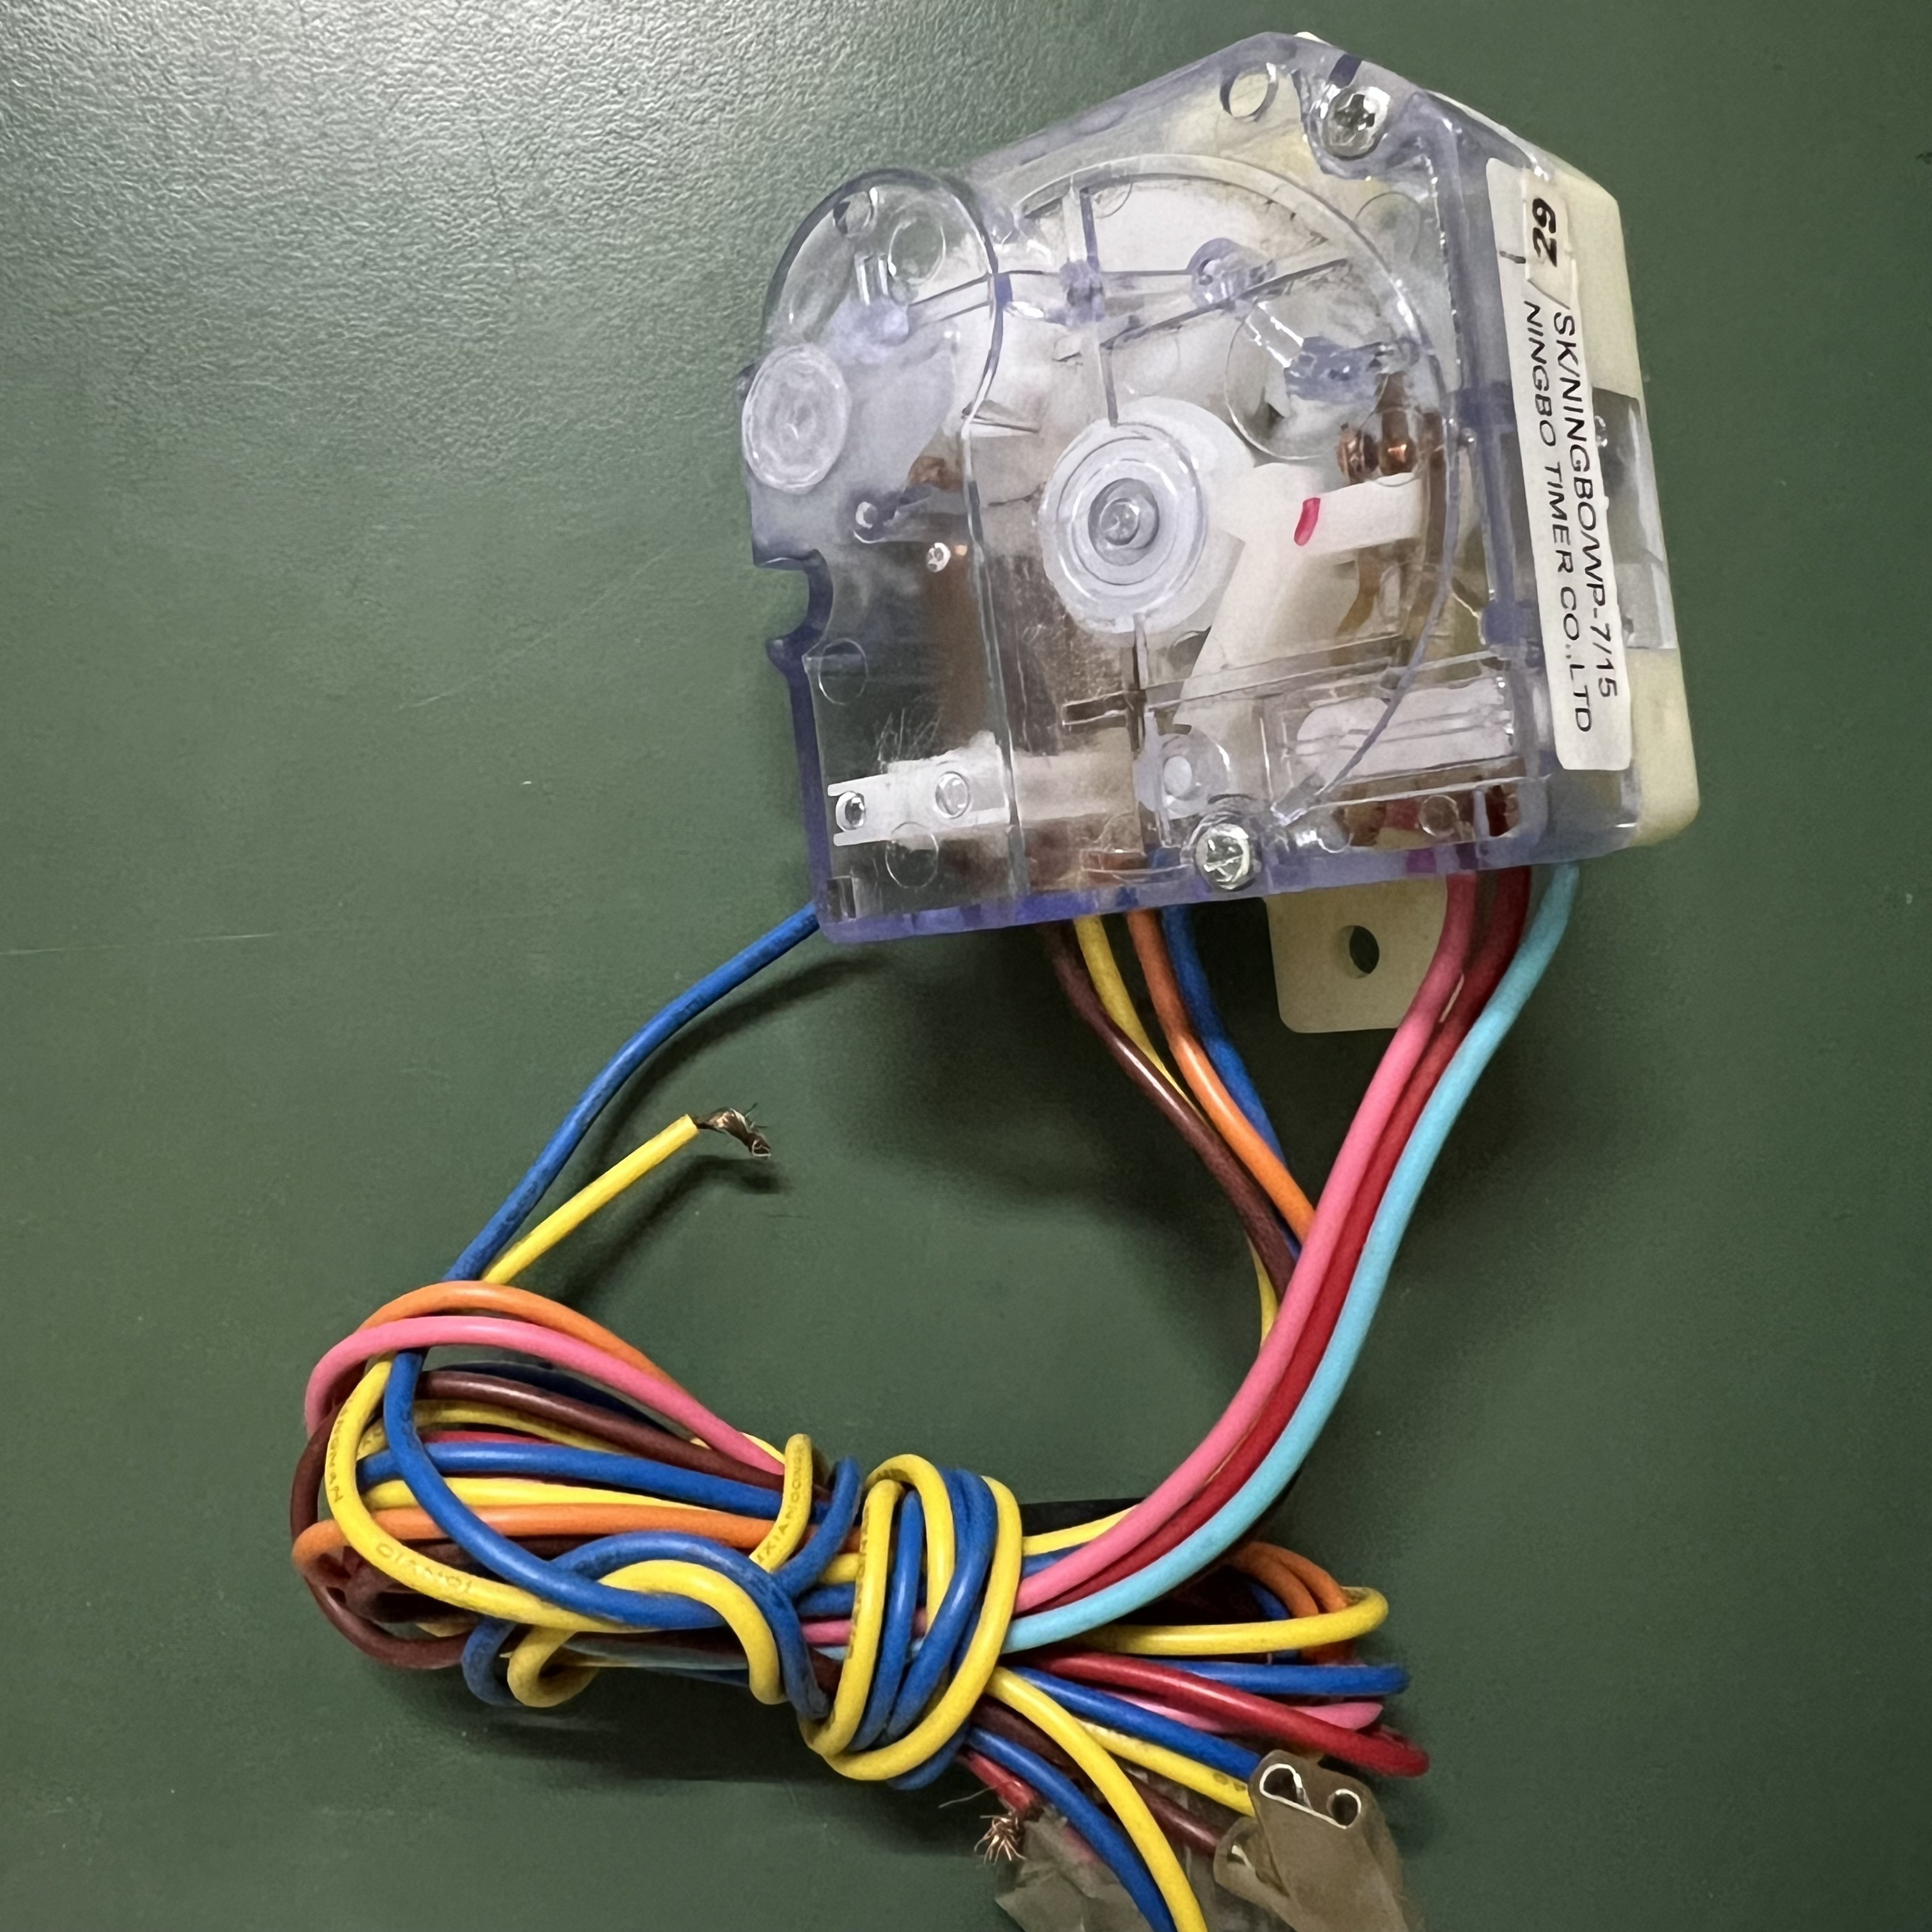square_timer: (724, 28, 1736, 1014)
